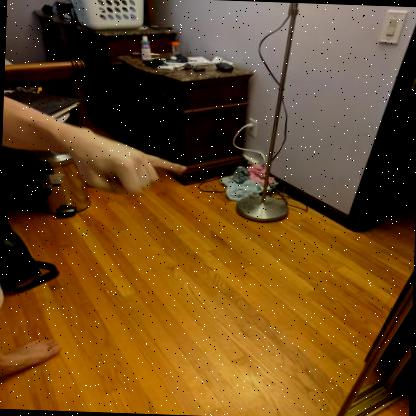J: (61, 123, 159, 195)
